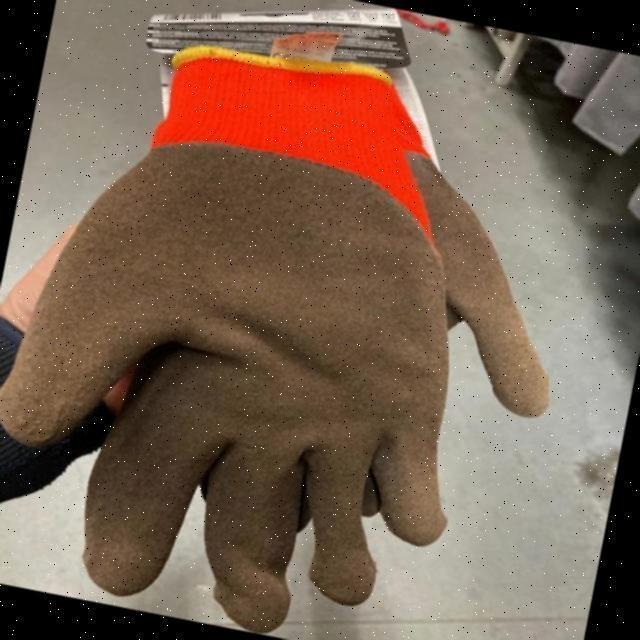Gloves: (60, 39, 521, 602)
